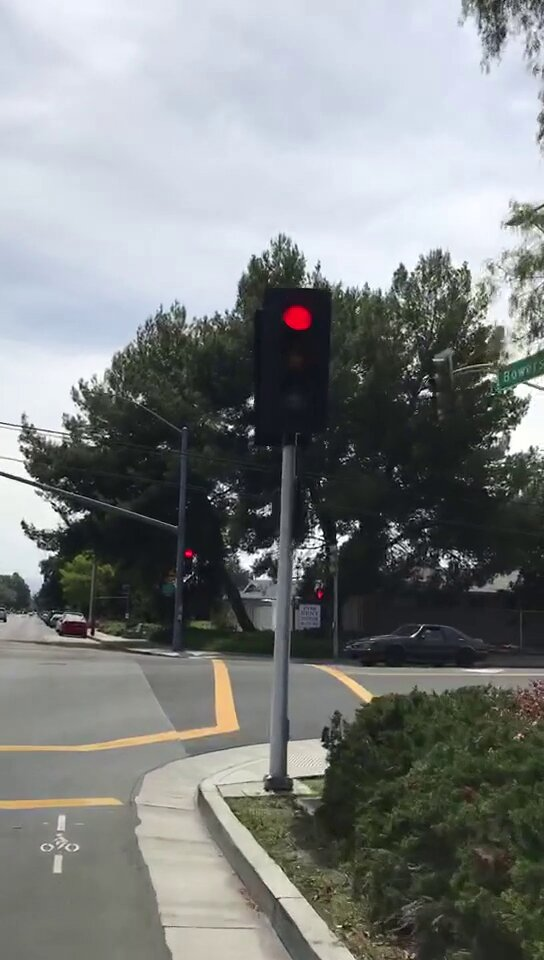red_light: (264, 292, 328, 422), (181, 545, 194, 575)
